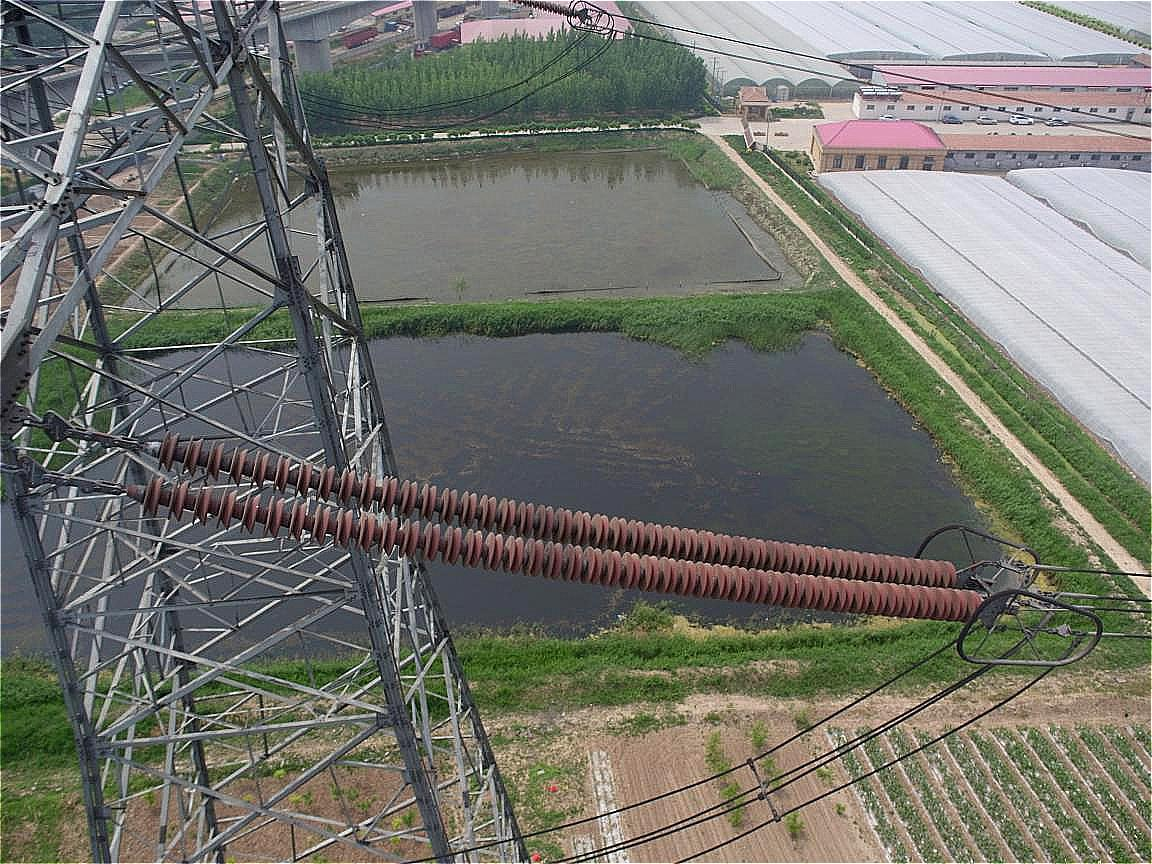insultor2: (86, 408, 1012, 641)
